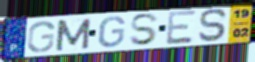E: (165, 9, 198, 46)
G: (26, 20, 57, 54), (96, 16, 127, 49)
M: (54, 17, 93, 52)
S: (197, 7, 229, 43), (129, 12, 161, 47)
